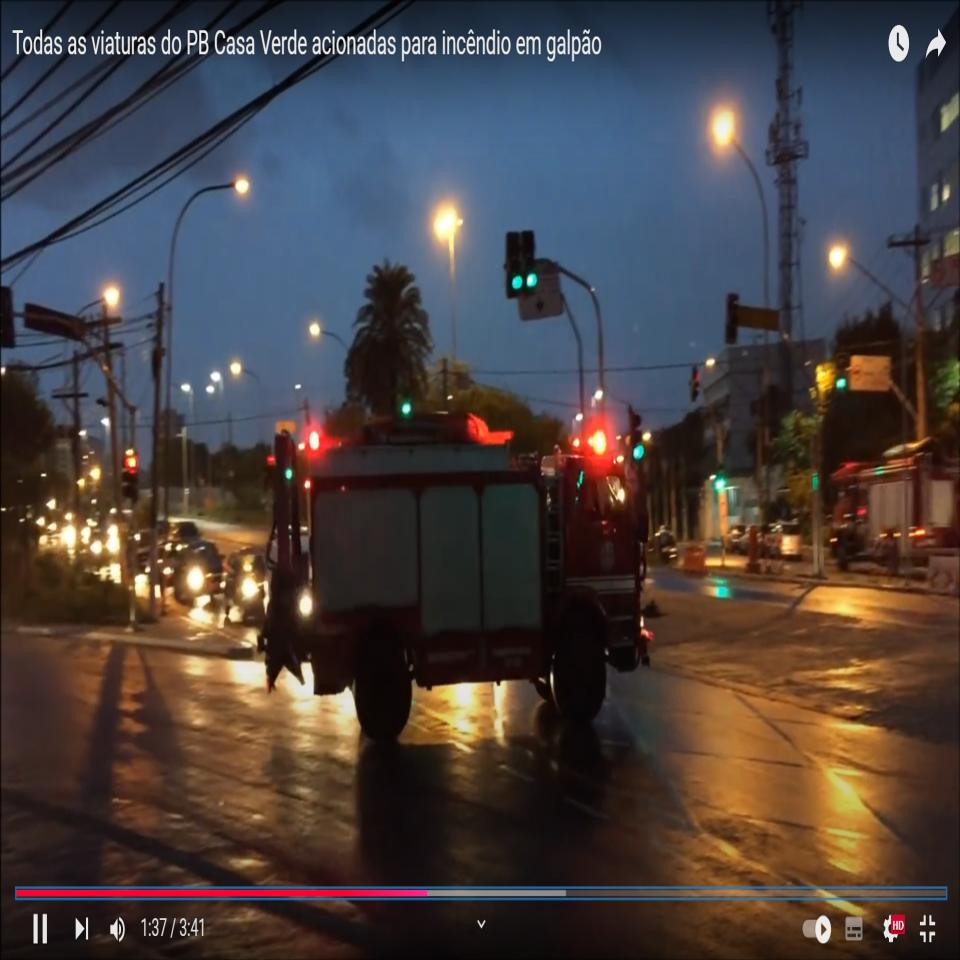viatura: (260, 409, 653, 743)
